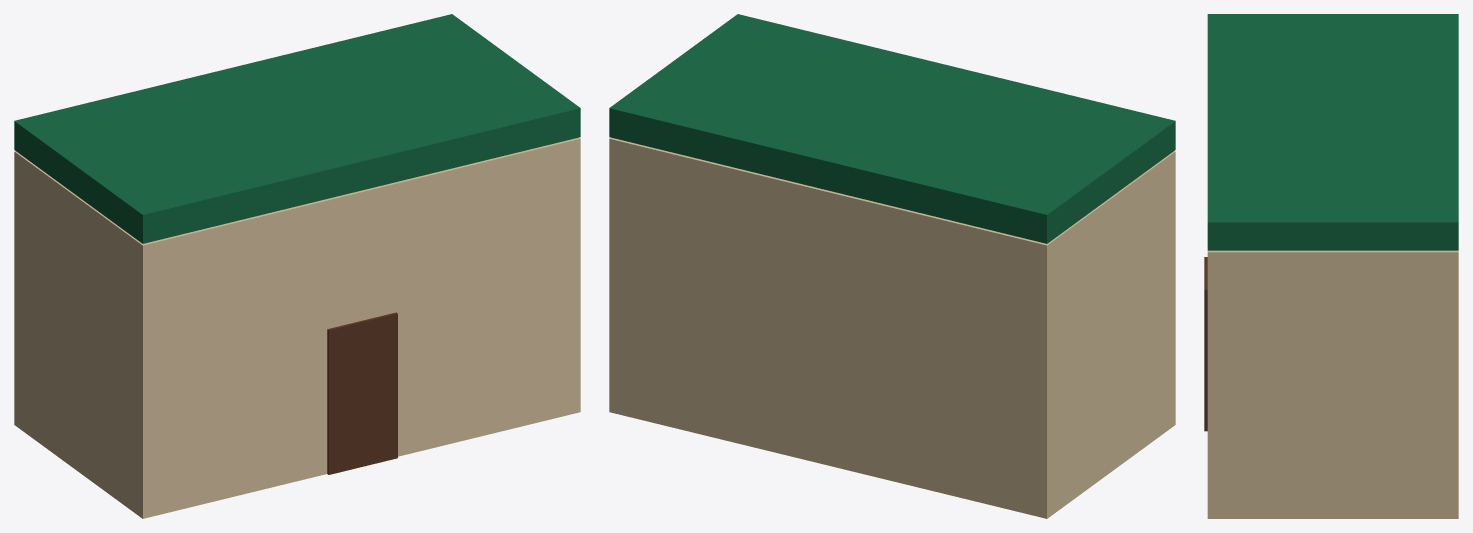
File: development-building.glb
The picture shows the model from 3 angles, left to right: view 1: azimuth 30°, elevation 25°; view 2: azimuth 150°, elevation 25°; view 3: azimuth 270°, elevation 25°; orthographic projection. The views are drawn at different scales.
Parts seen in each view (by area): view 1: Walls, Roof, Door; view 2: Walls, Roof; view 3: Walls, Roof, Door.
Boxes of the visible parts, left/top/right/bottom form: Walls: left=14, top=137, right=580, bottom=518; Roof: left=14, top=14, right=580, bottom=243; Door: left=327, top=312, right=397, bottom=474; Walls: left=609, top=137, right=1175, bottom=518; Roof: left=609, top=14, right=1175, bottom=243; Walls: left=1207, top=250, right=1458, bottom=518; Roof: left=1207, top=14, right=1458, bottom=250; Door: left=1204, top=257, right=1207, bottom=431.
Size of the model in its own units: 2.85 by 1.89 by 1.47.
